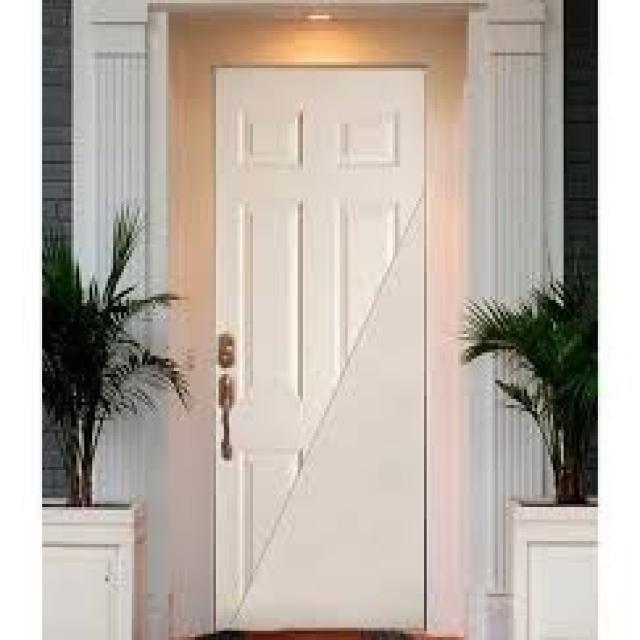door: (212, 65, 428, 634)
